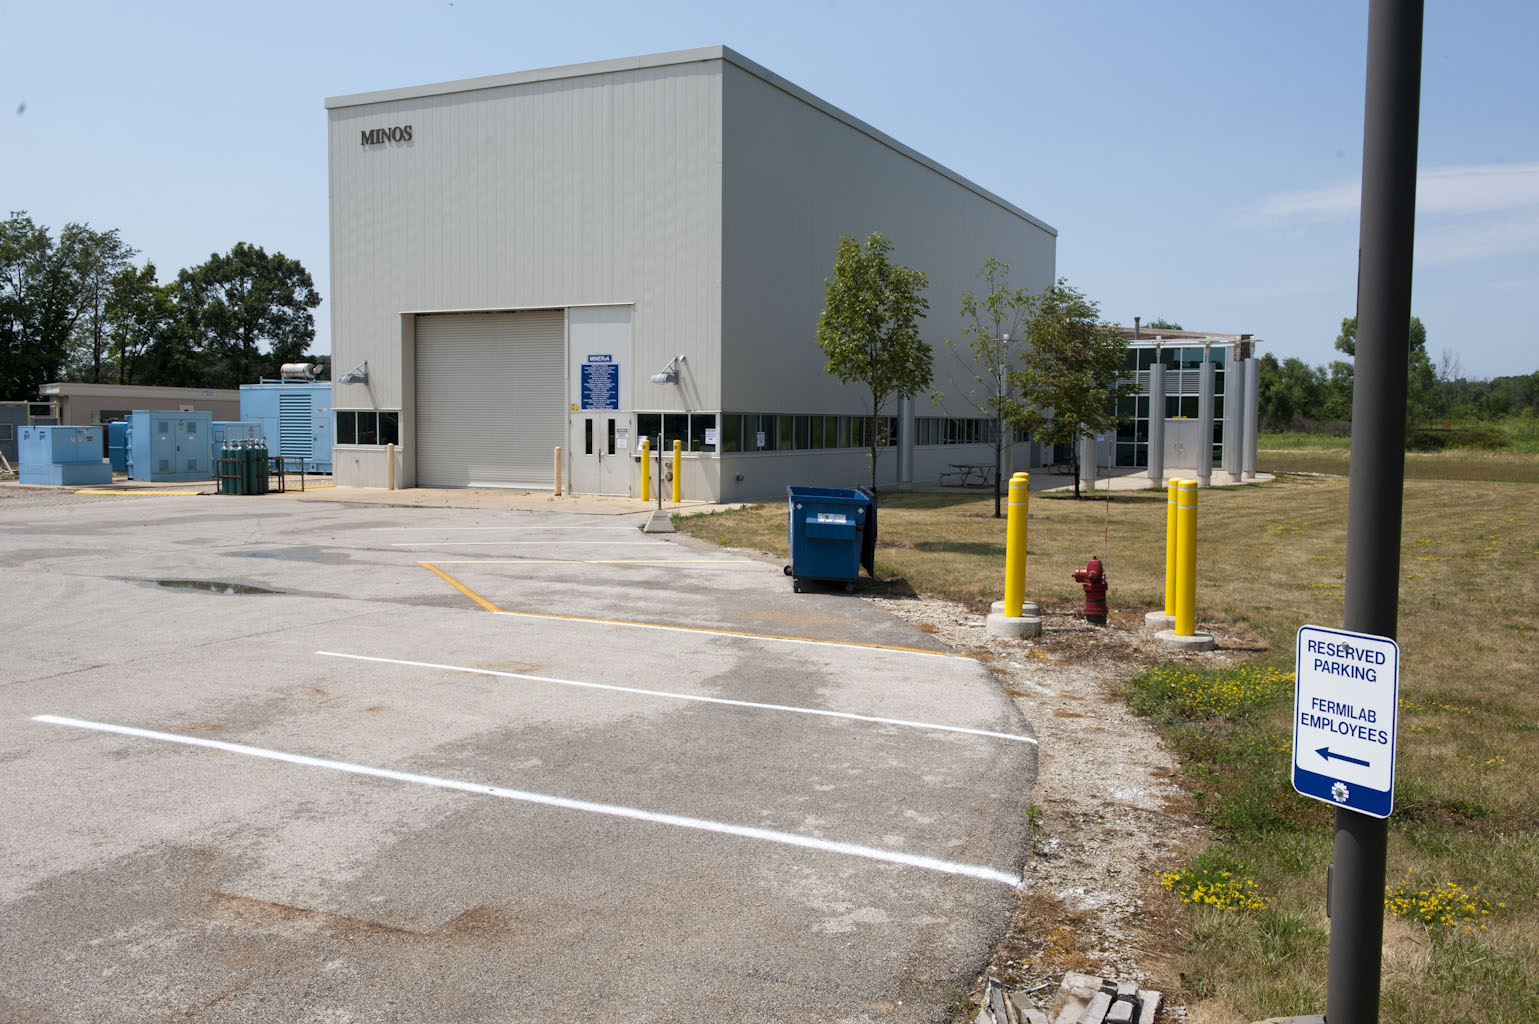empyt_space: (30, 646, 1053, 897), (304, 606, 1059, 754), (390, 531, 781, 577)
